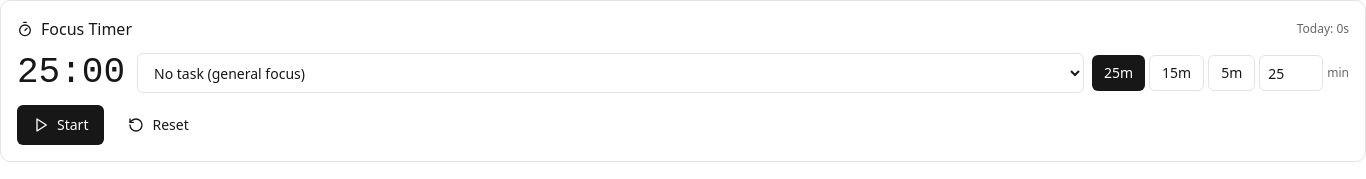
Test: PomodoroTimer › tracks elapsed time by wall clock, not by counting interval ticks
Click the button "Start" at (61, 125), box [17,105,104,145]
Wait 1000 ms
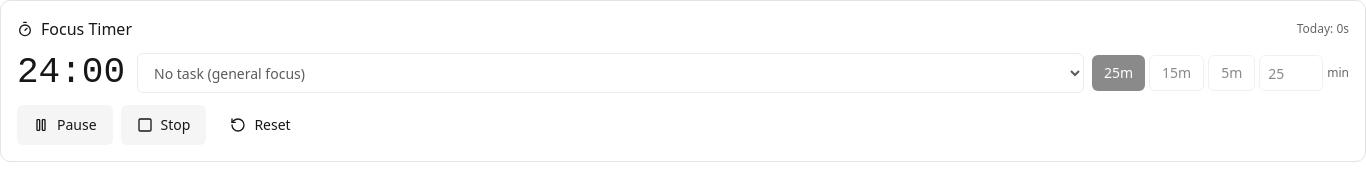
Check: the text named "Time remaining" reads "24:00", box [17,52,125,93]
